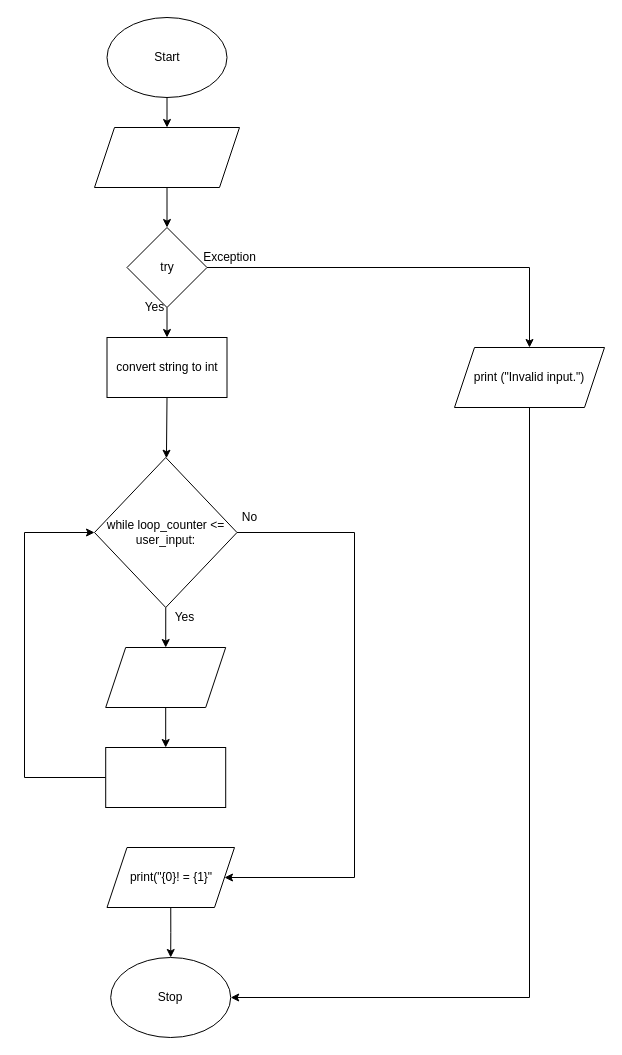
Some shapes in this 622 by 1055 pixel diagram are drawn without their labels. Here are the shapes that lost their labels. From the top down, the box of each, then its label:
(94, 126, 240, 188): get user_input_string
(105, 646, 226, 708): total = total * loop_counter
(105, 746, 226, 808): loop_counter = loop_counter + 1
